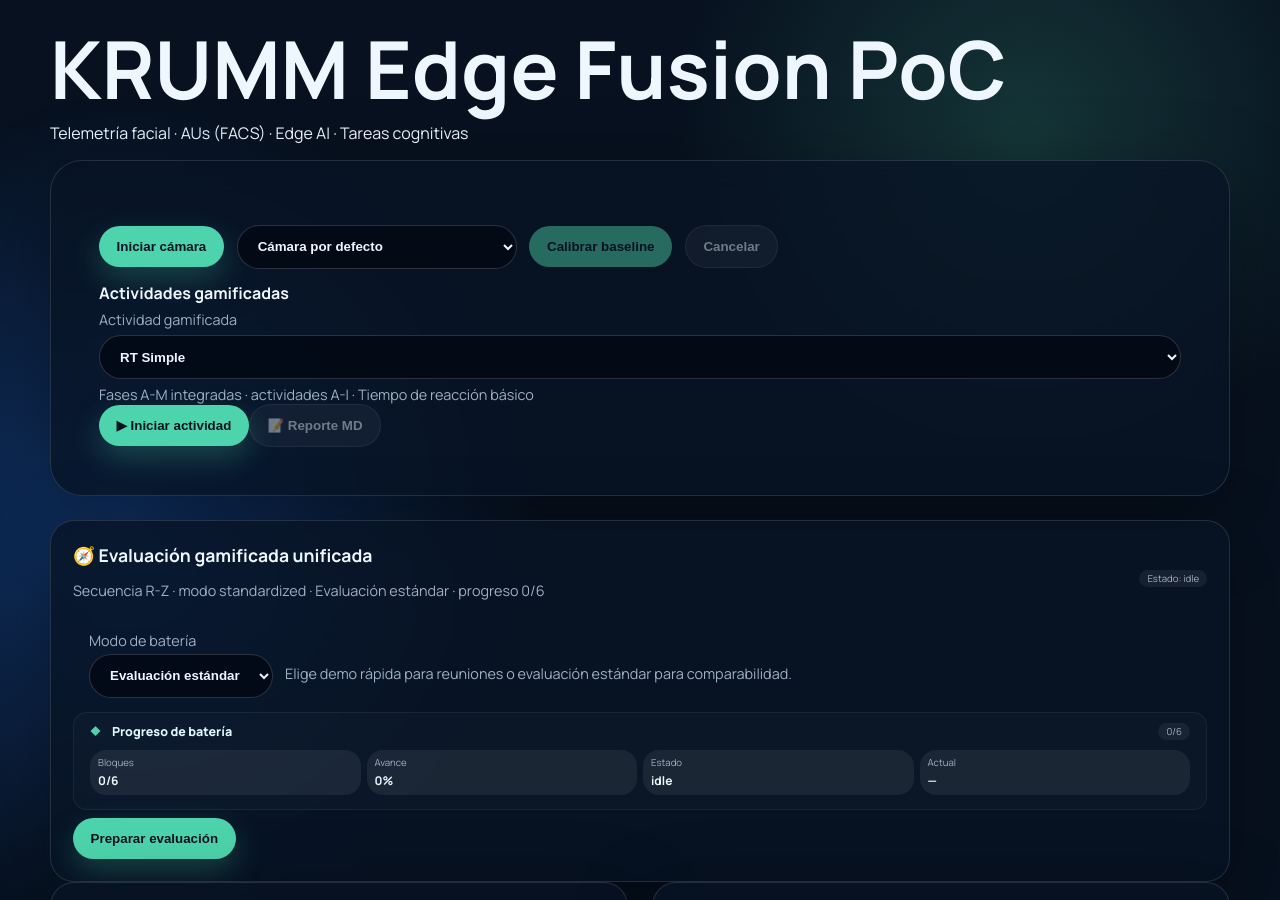
App shell › allows manual access to newly implemented gamified tasks without starting the camera
Select "Go/No-Go" in the dropdown labelled "Actividad gamificada" at (640, 357), box [99, 335, 1181, 379]
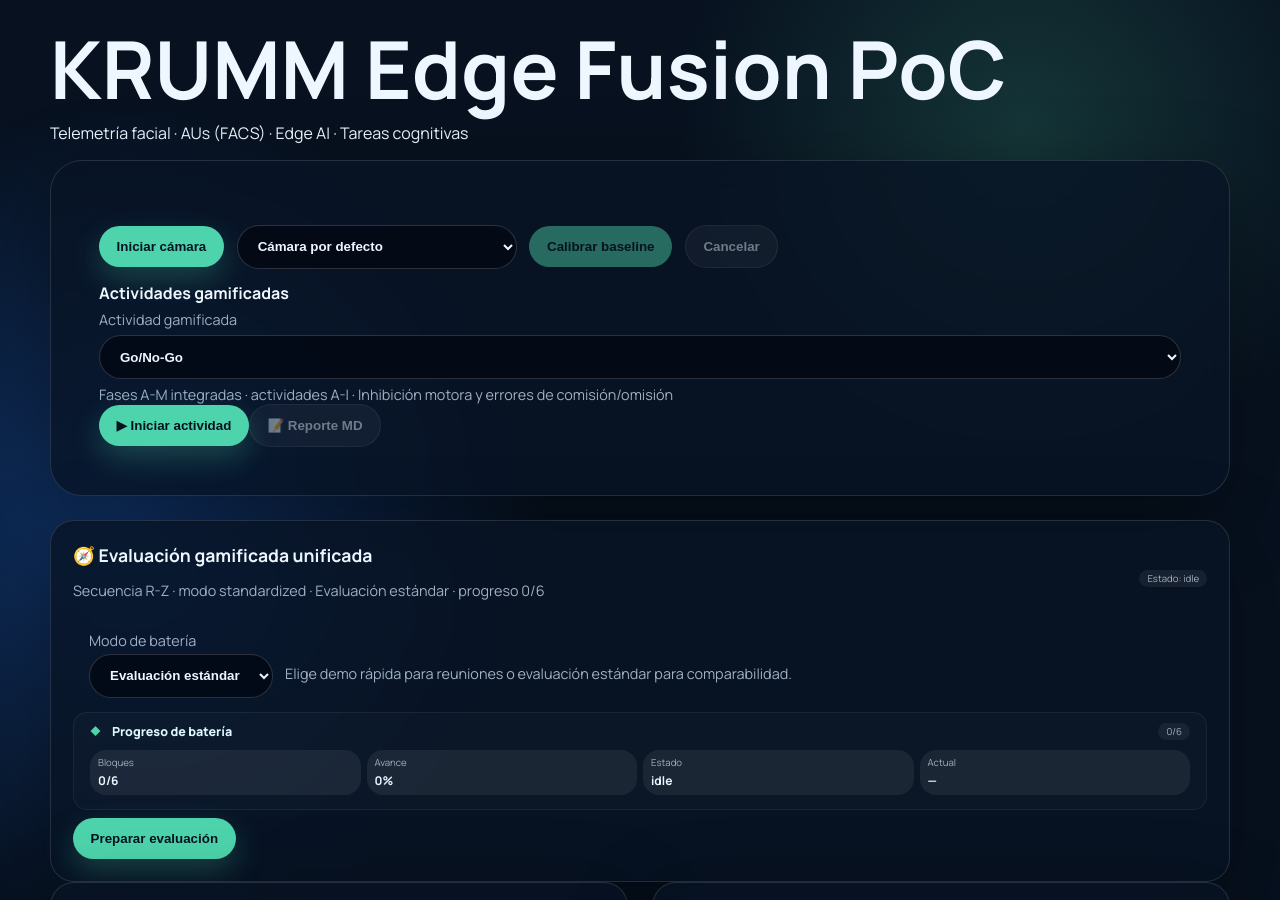
Click the button "▶ Iniciar actividad" at (174, 426), box [99, 405, 249, 446]
(page scrolled)
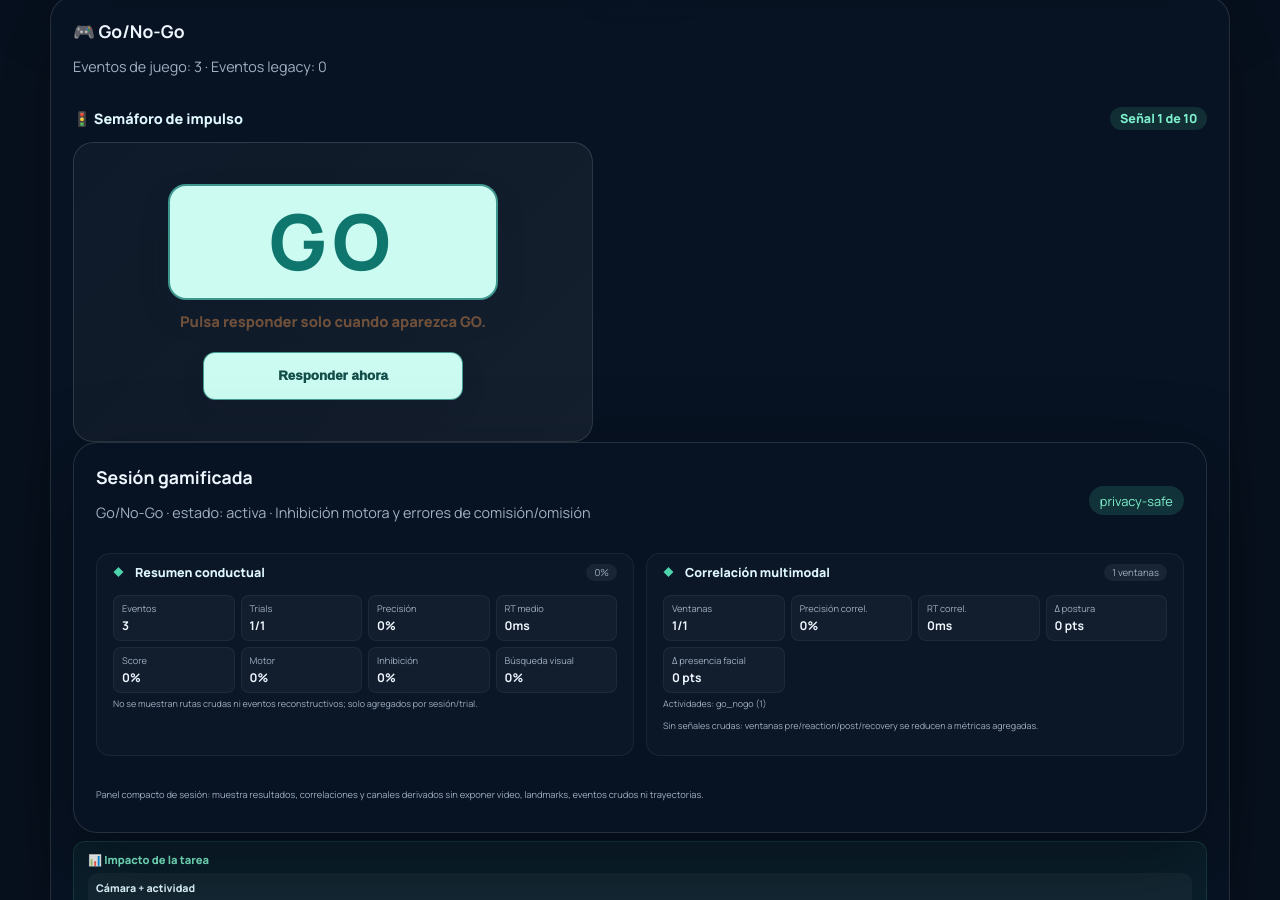
Check: the heading "🎮 Go/No-Go" is shown, box [73, 18, 184, 42]
Check: the heading "Sesión gamificada" is shown, box [96, 465, 253, 489]
